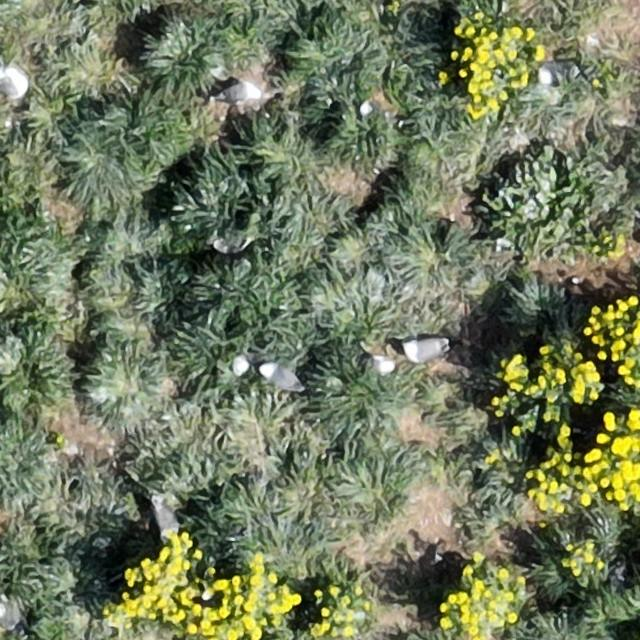umineko: (539, 62, 585, 85), (2, 61, 29, 100), (217, 80, 263, 102), (402, 338, 444, 361), (260, 364, 296, 388), (154, 501, 177, 534), (363, 355, 394, 375)
